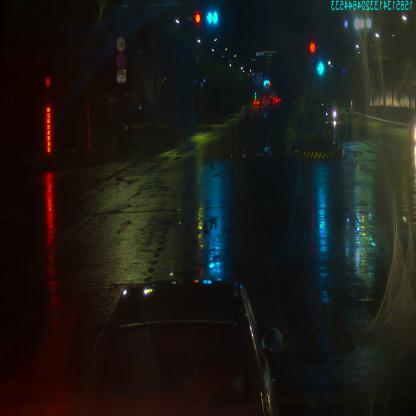traffic-light: (206, 9, 218, 26), (195, 12, 201, 29)
